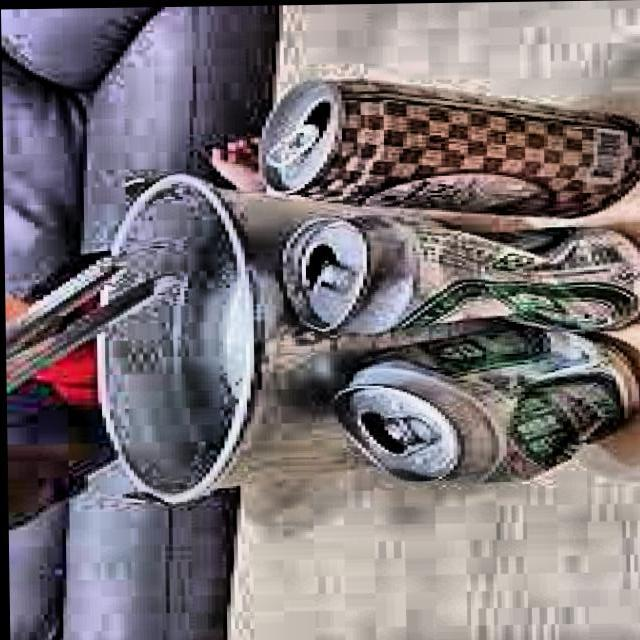litter: (238, 72, 640, 224), (319, 317, 640, 492), (265, 212, 640, 346)
